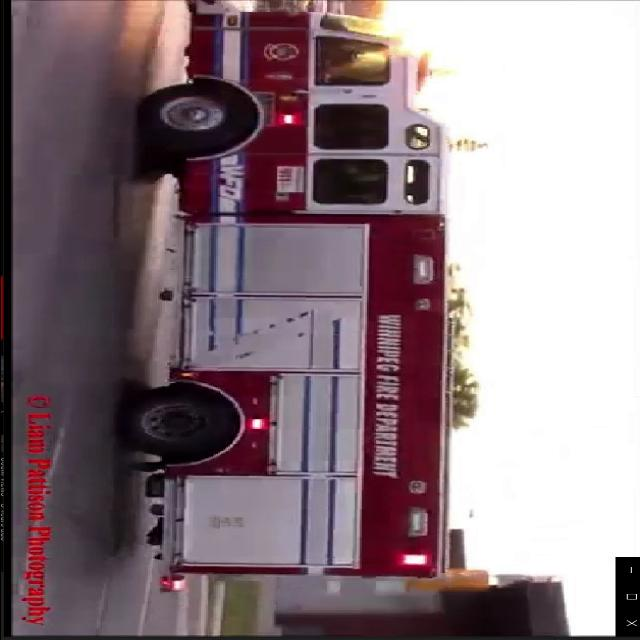emergency: (108, 9, 450, 592)
